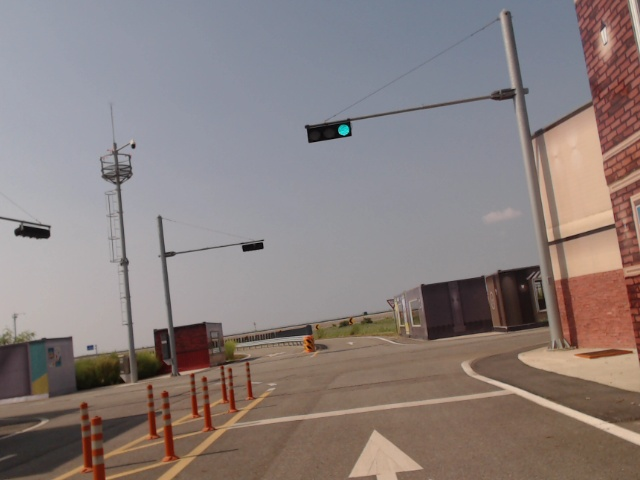green_3: (305, 119, 353, 143)
